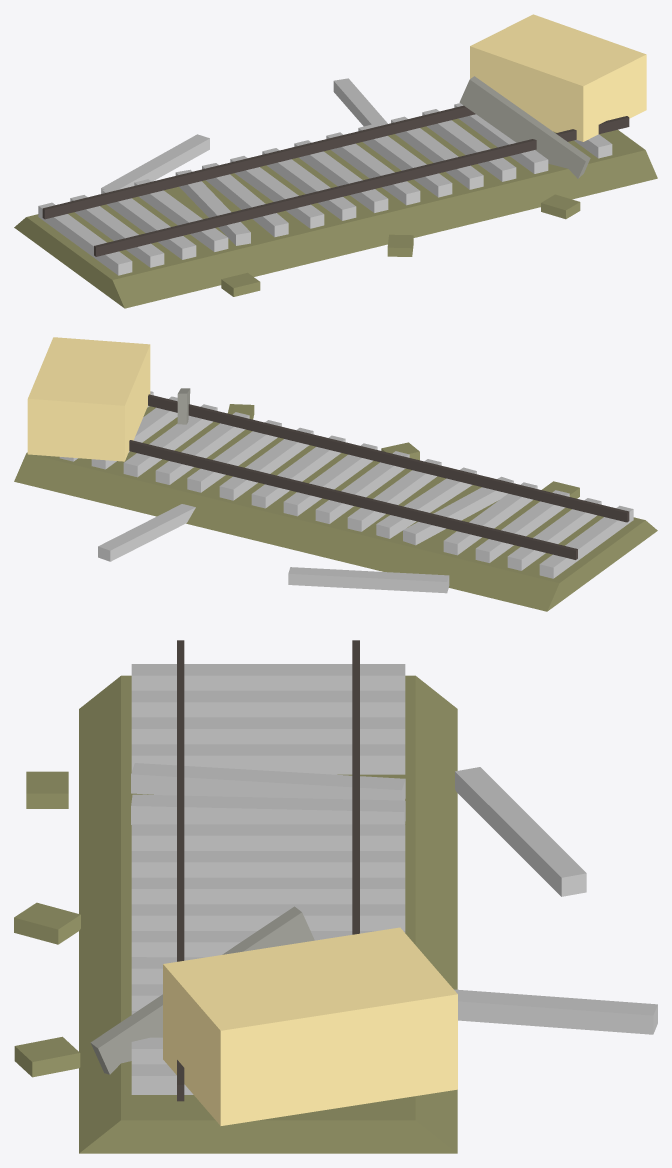
Rendered from SM_Via_Topera_v4_Danada_LOD0.fbx.
3 renders of one model, top to bottom at view 1: azimuth 30°, elevation 25°; view 2: azimuth 150°, elevation 25°; view 3: azimuth 270°, elevation 25°, orthographic. The views are drawn at different scales.
Parts seen in each view (by area): view 1: SM_via_trazado_v39_LOD0; view 2: SM_via_trazado_v39_LOD0; view 3: SM_via_trazado_v39_LOD0.
Boxes of the visible parts, left/top/right/bottom form: SM_via_trazado_v39_LOD0: left=14, top=14, right=657, bottom=308; SM_via_trazado_v39_LOD0: left=14, top=337, right=657, bottom=611; SM_via_trazado_v39_LOD0: left=14, top=640, right=657, bottom=1153.
Size of the model in its own units: 10.56 by 1.55 by 6.12.
